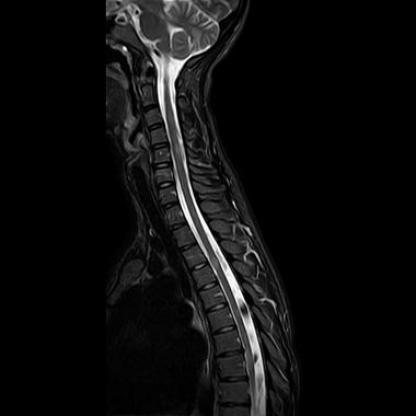Disc Bulgerotation: (152, 137, 169, 152)
